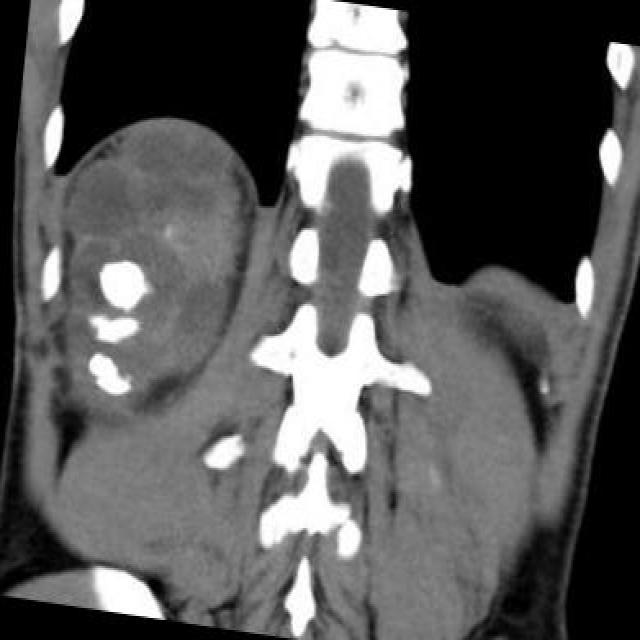Tas_Var: (80, 240, 162, 318), (74, 307, 147, 351), (88, 371, 135, 395), (84, 351, 119, 379)
